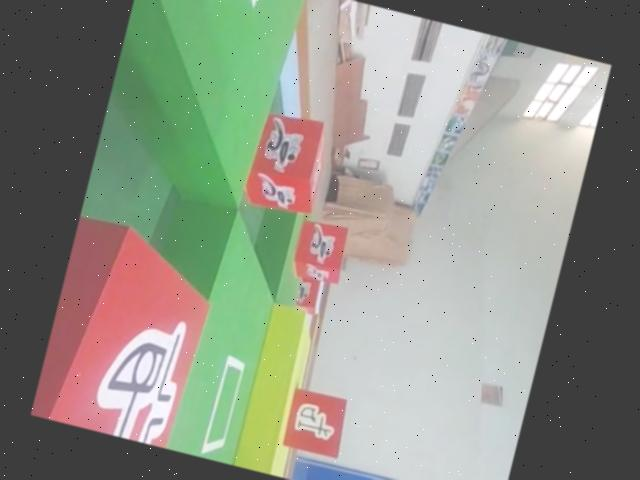R1: (239, 108, 332, 219), (283, 214, 353, 290)
R2 Real: (29, 207, 228, 452), (279, 386, 351, 461)
